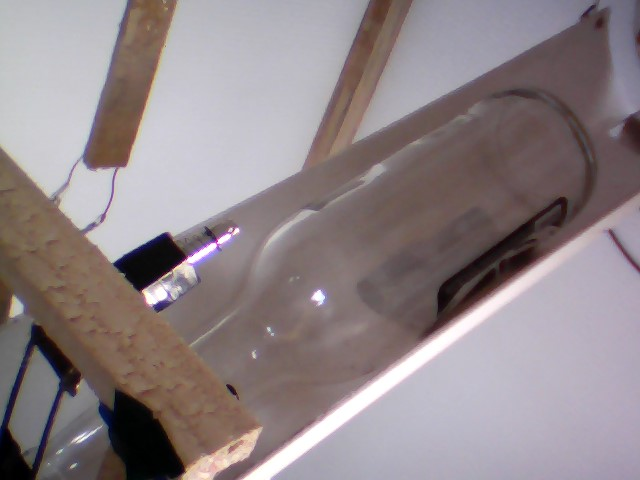vidrio: (172, 79, 604, 418)
